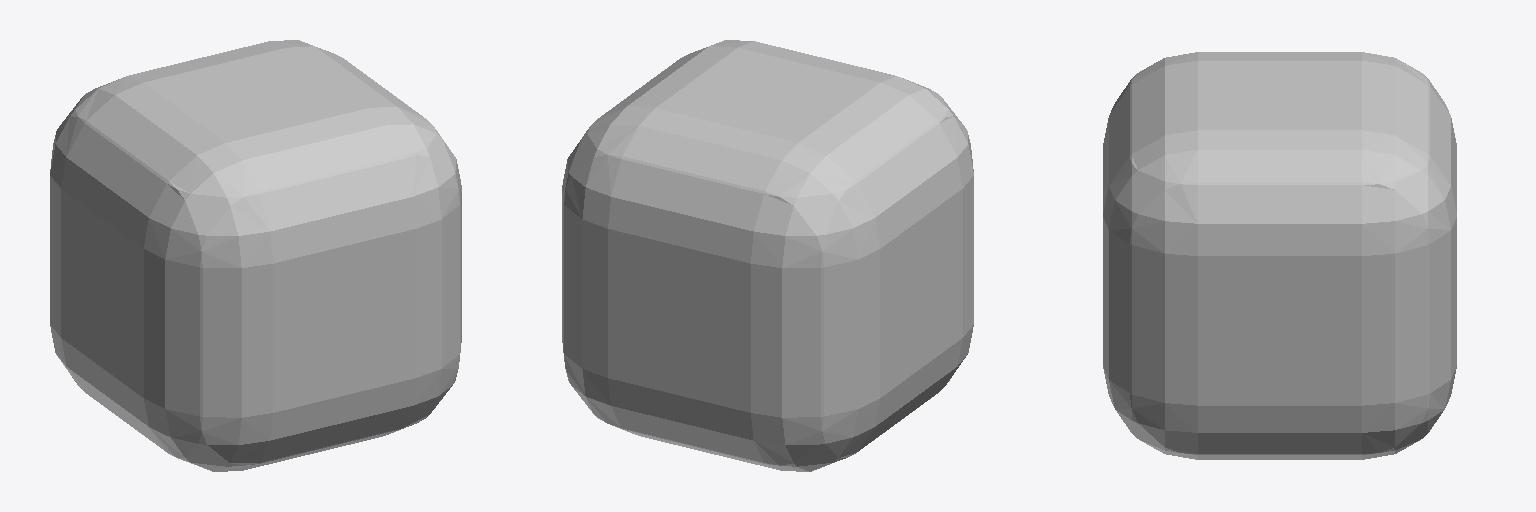
3 renders of one model, left to right at view 1: azimuth 30°, elevation 25°; view 2: azimuth 150°, elevation 25°; view 3: azimuth 270°, elevation 25°, orthographic.
Visible parts, largest first — view 1: Mball; view 2: Mball; view 3: Mball.
Boxes of the visible parts, <box> form: Mball: <box>50,40,461,471</box>; Mball: <box>562,40,973,471</box>; Mball: <box>1103,52,1456,459</box>.
Bounding box in the file's own units: 2 × 2 × 2.